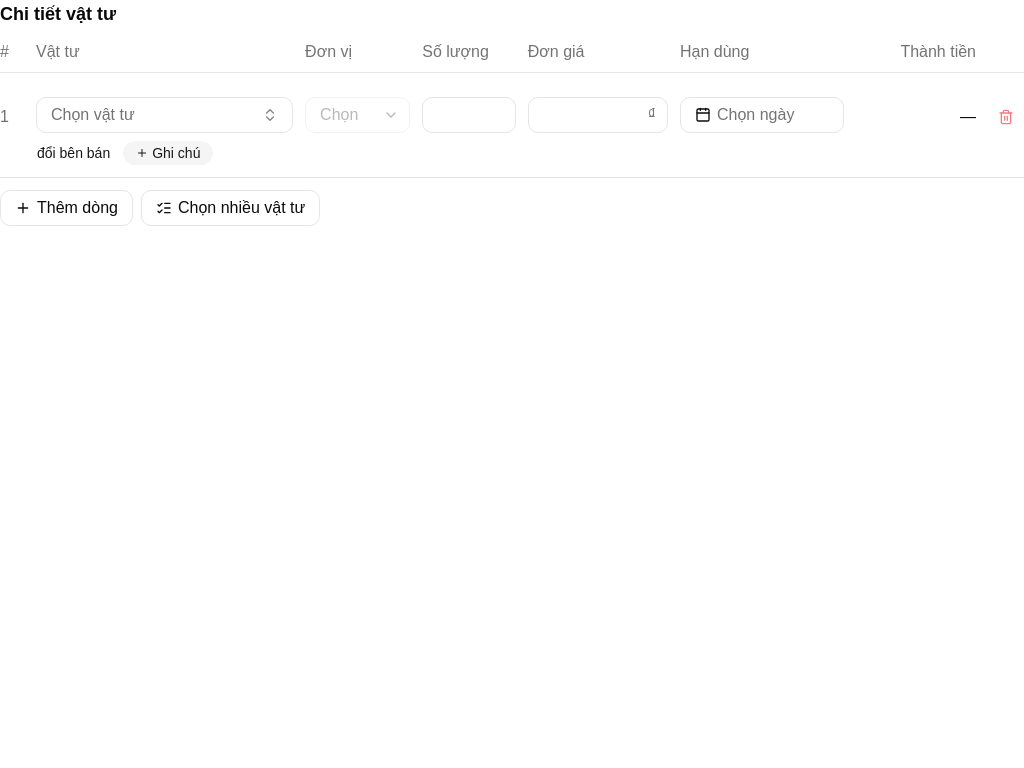
Test case: ImportFormItemsField › ô xổ vật tư: mỗi mục có mã, tên, "Tồn: <số> <đơn vị gốc>" và các mã đơn vị; danh sách cao ~60vh; chọn vẫn điền đơn vị gốc
The width and height of the screenshot is (1024, 768).
Click the dropdown named "Vật tư dòng 1": (165, 115) [36,97,293,133]
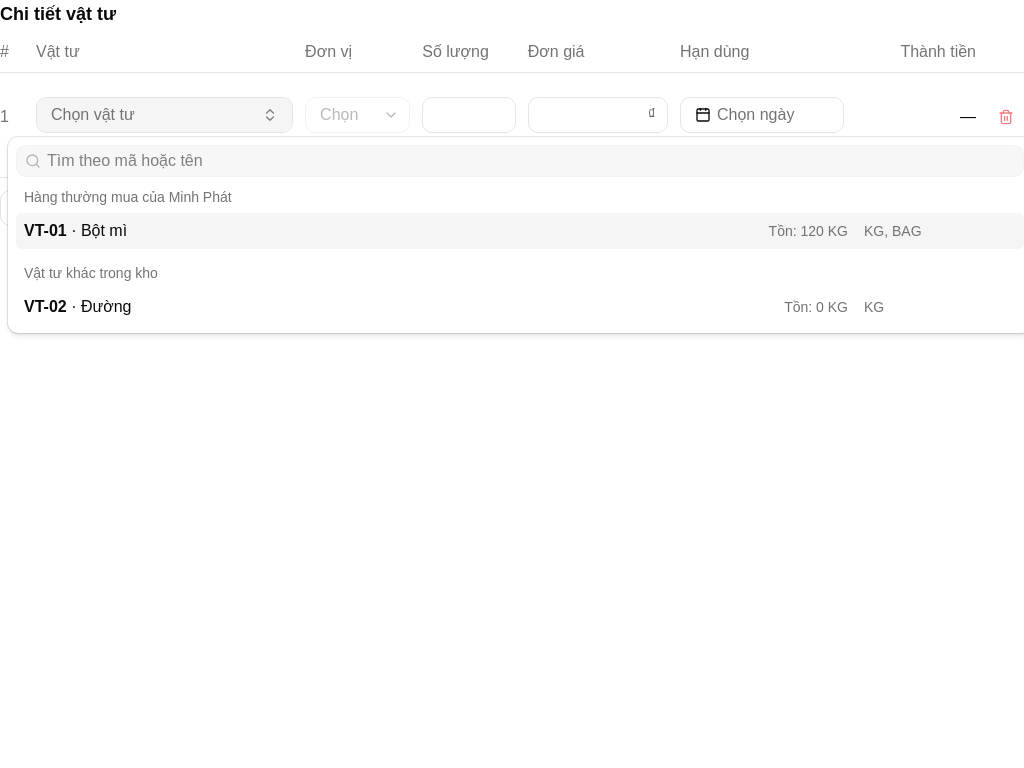
Expected: the text "VT-01" is shown, [24,222,67,239]
Expected: the text "VT-01 · Bột mì" is shown, [24,222,127,239]
Expected: the text "Tồn: 120 KG" is shown, [769,223,848,239]
Click the option "VT-01 · Bột mì Tồn: 120 KG KG, BAG": (45, 230) [16,213,1023,249]
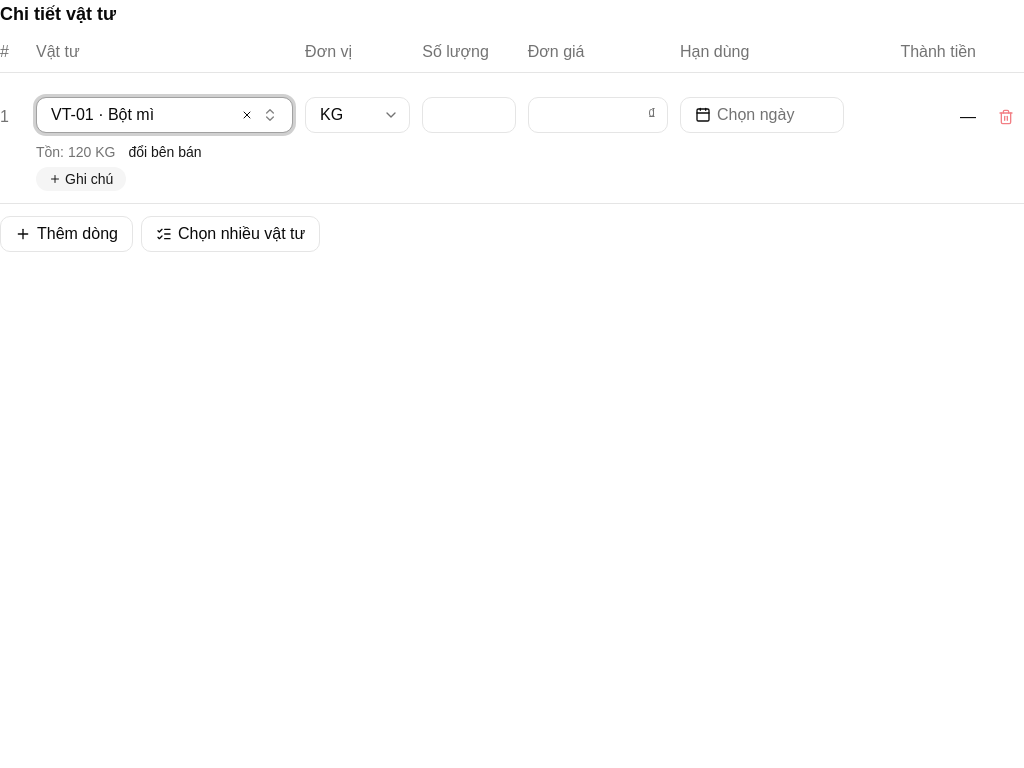
Expected: the dropdown named "Vật tư dòng 1" reads "VT-01 · Bột mì", [36,97,293,133]
